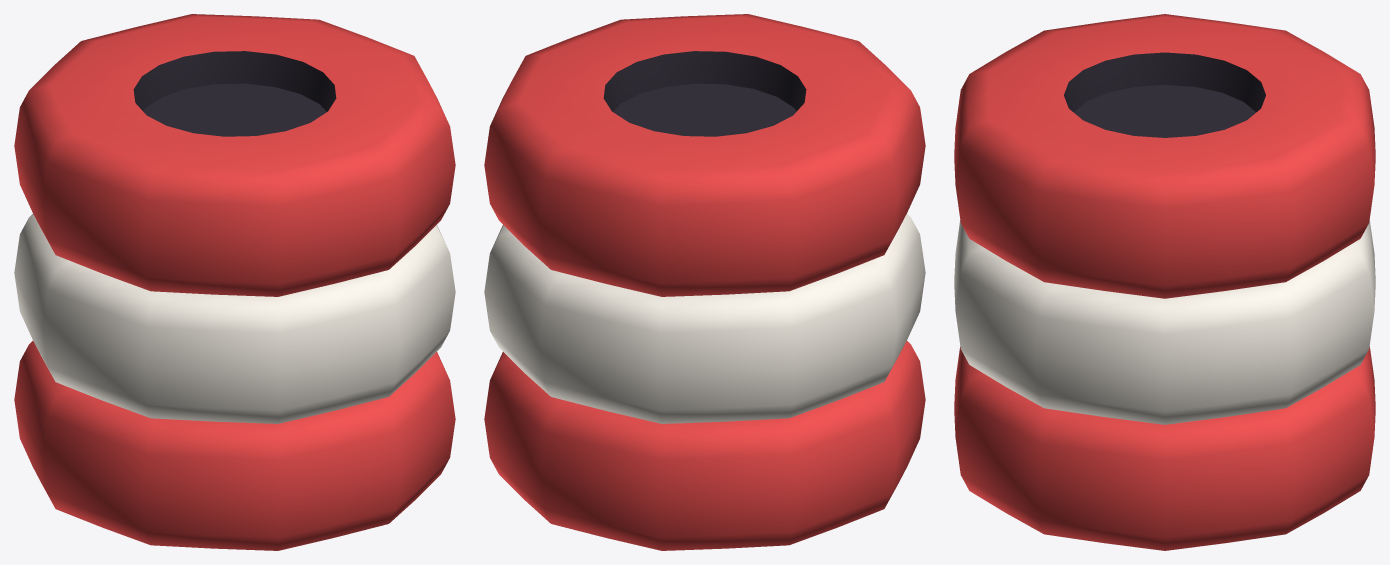
Rendered from tire_stack.glb.
The picture shows the model from 3 angles, left to right: view 1: azimuth 30°, elevation 25°; view 2: azimuth 150°, elevation 25°; view 3: azimuth 270°, elevation 25°; orthographic projection.
Parts seen in each view (by area): view 1: tire_stack; view 2: tire_stack; view 3: tire_stack.
Boxes of the visible parts, box(x1,y1,x2,y2) form: tire_stack: box(14, 14, 455, 550); tire_stack: box(484, 14, 925, 550); tire_stack: box(954, 14, 1375, 550).
Size of the model in its own units: 1.04 by 0.98 by 1.
